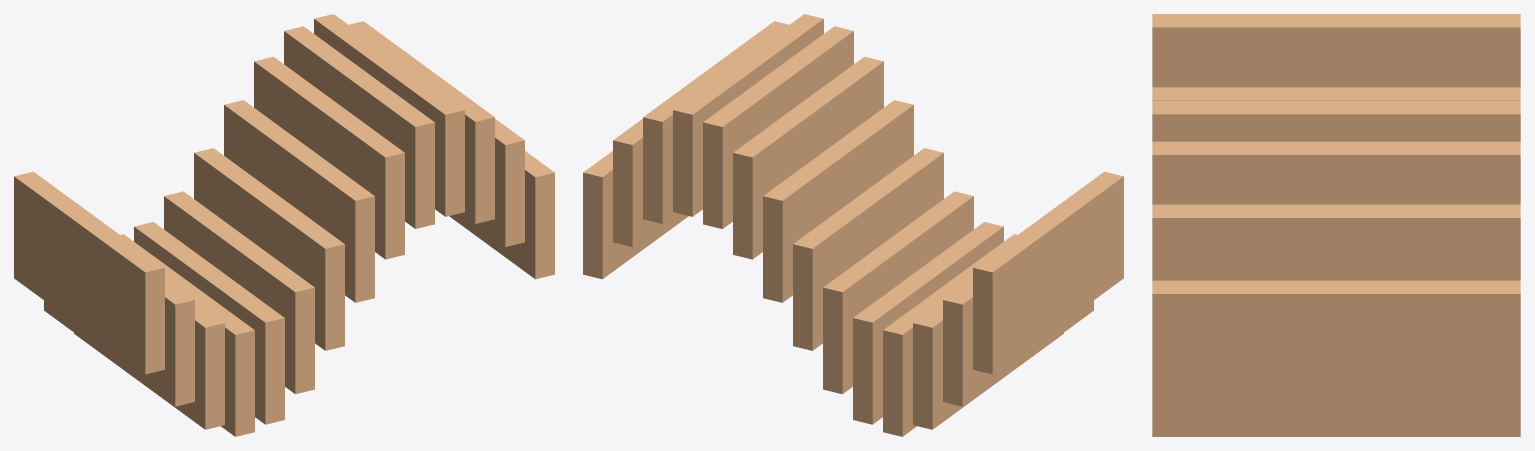
The model's file is drift-koi.glb.
3 renders of one model, left to right at view 1: azimuth 30°, elevation 25°; view 2: azimuth 150°, elevation 25°; view 3: azimuth 270°, elevation 25°, orthographic. The views are drawn at different scales.
Visible parts, largest first — view 1: world; view 2: world; view 3: world.
Boxes of the visible parts, x1=… form: world: x1=14, y1=14, x2=554, y2=436; world: x1=583, y1=14, x2=1123, y2=436; world: x1=1152, y1=14, x2=1520, y2=436.
Bounding box in the file's own units: 2 × 1.26 × 1.11.
1 material, 1 textured.
